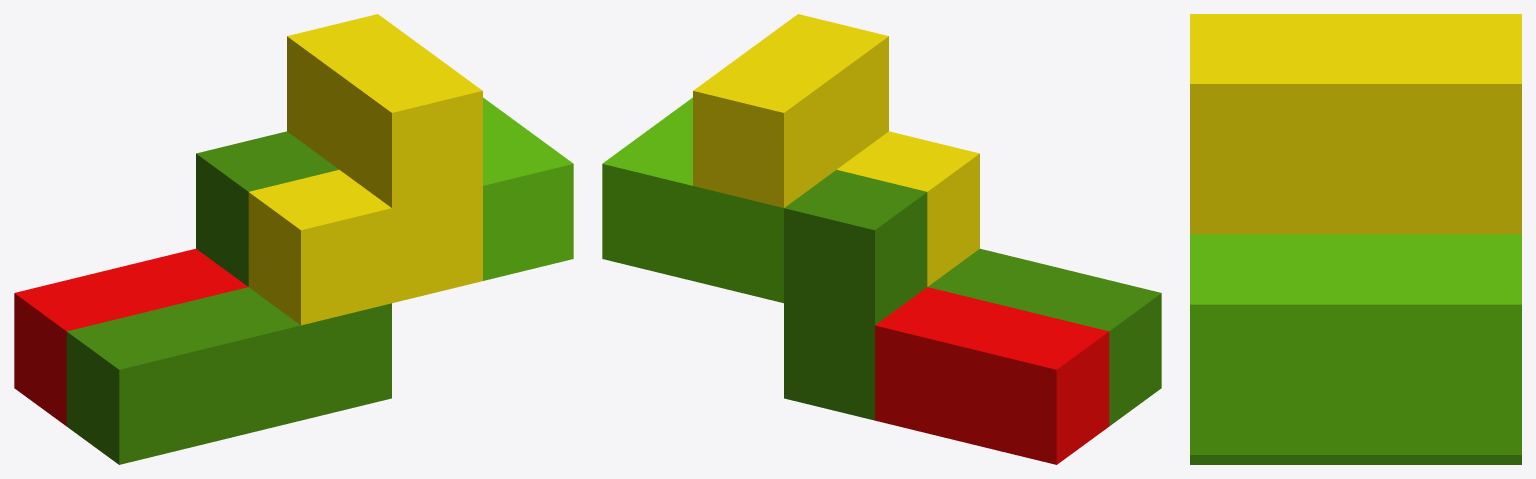
The picture shows the model from 3 angles, left to right: view 1: azimuth 30°, elevation 25°; view 2: azimuth 150°, elevation 25°; view 3: azimuth 270°, elevation 25°; orthographic projection. The views are drawn at different scales.
Visible parts, largest first — view 1: mergedBlocks(Clone); view 2: mergedBlocks(Clone); view 3: mergedBlocks(Clone).
Boxes of the visible parts, x1,y1,x2,y2 form: mergedBlocks(Clone): [14, 14, 573, 464]; mergedBlocks(Clone): [602, 14, 1161, 464]; mergedBlocks(Clone): [1190, 14, 1521, 464].
Size of the model in its own units: 5 by 3 by 2.
4 materials, 4 textured.
